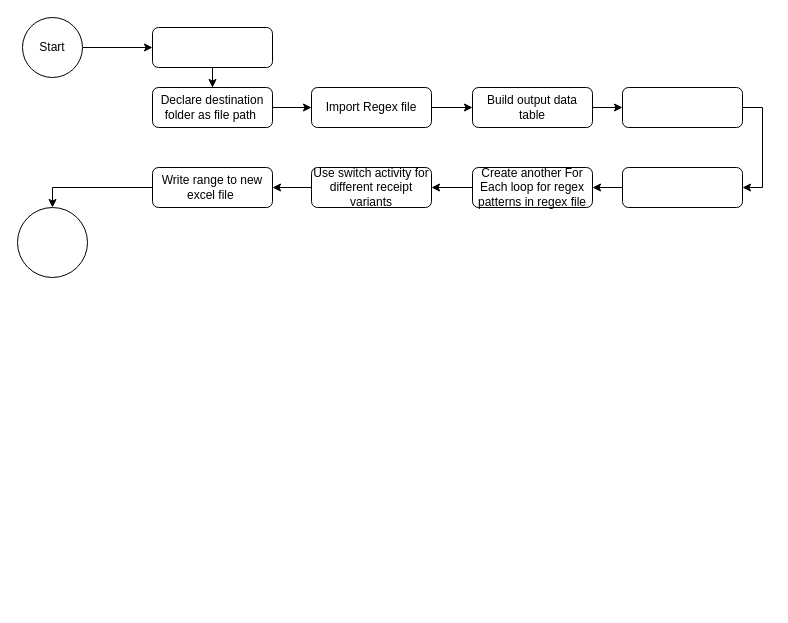
This 788x623 diagram has some shape labels left out. The centre of each missing label's shape, as x and y in pixels:
"End" belongs at (x=52, y=242).
"Loop through invoices in file path/directory" belongs at (x=682, y=107).
"Read pdf text accordingly" belongs at (x=682, y=187).
"Retrieve invoice as mail attachments" belongs at (x=212, y=47).
